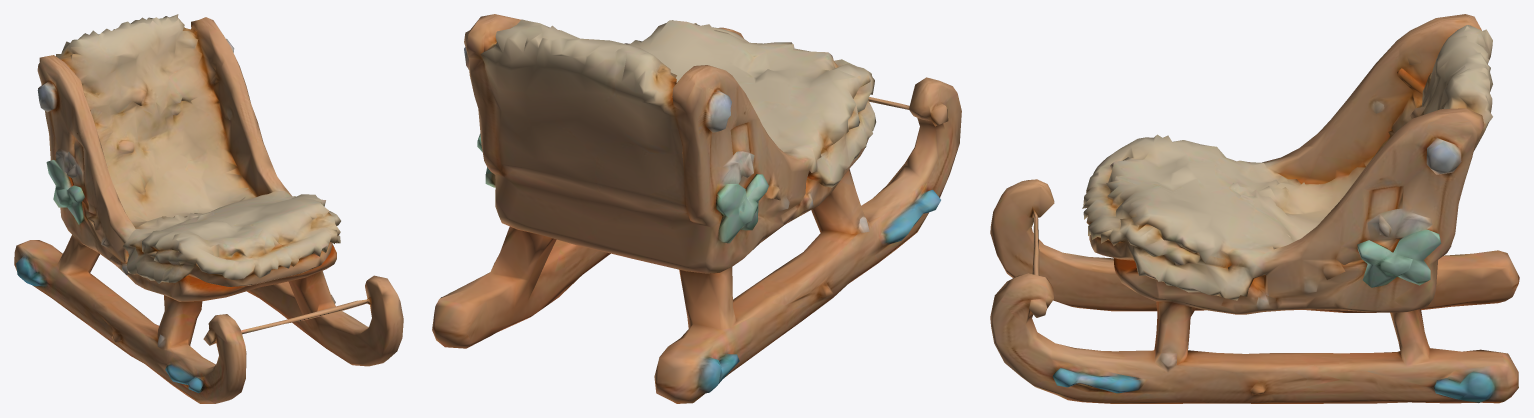
Rendered from sleigh.glb.
The picture shows the model from 3 angles, left to right: view 1: azimuth 30°, elevation 25°; view 2: azimuth 150°, elevation 25°; view 3: azimuth 270°, elevation 25°; orthographic projection. The views are drawn at different scales.
Parts seen in each view (by area): view 1: tripo_node_1e7b4fc0-f559-41ea-89c6-87538e74ef22; view 2: tripo_node_1e7b4fc0-f559-41ea-89c6-87538e74ef22; view 3: tripo_node_1e7b4fc0-f559-41ea-89c6-87538e74ef22.
Boxes of the visible parts, x1,y1,x2,y2 form: tripo_node_1e7b4fc0-f559-41ea-89c6-87538e74ef22: (14, 14, 403, 403); tripo_node_1e7b4fc0-f559-41ea-89c6-87538e74ef22: (432, 14, 961, 403); tripo_node_1e7b4fc0-f559-41ea-89c6-87538e74ef22: (990, 14, 1519, 403).
Bounding box in the file's own units: 0.5616 × 0.6331 × 1.
1 material, 1 textured.
